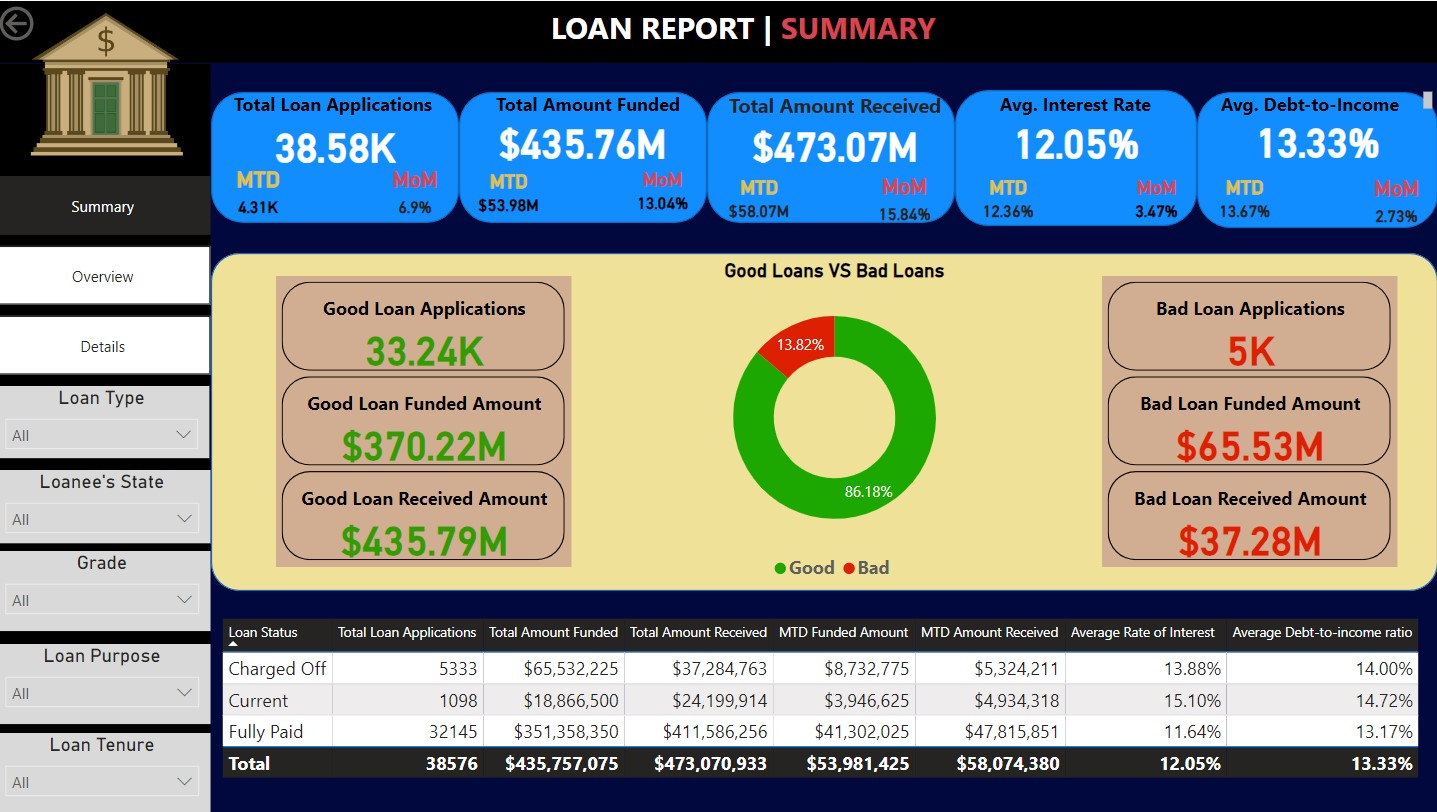

The dashboard page shown, as its layout file describes it:
{"tool":"powerbi","page":{"name":"Summary","canvas":[1280,720],"ordinal":0},"visuals":[{"type":"shape","box":[0,0,1280.4,55],"z":0},{"type":"shape","box":[0,55.6,192,665],"z":1000},{"type":"shape","box":[192.4,80.7,219.9,116.2],"z":2000},{"type":"textbox","box":[488.6,0,511.6,65.1],"z":3000},{"type":"card","fields":{"Values":["financial_loan.TotalLoanApplications"]},"box":[198.6,104.6,207.5,45.2],"z":4000},{"type":"textbox","box":[207.5,75.4,222.6,34.6],"z":5000},{"type":"card","title":"MTD","fields":{"Values":["financial_loan.MTD Loan Applications"]},"box":[207.5,147.2,53.2,47],"z":6000},{"type":"card","title":"MoM","fields":{"Values":["financial_loan.MoM Loan Applications"]},"box":[334.3,147.2,78,46.1],"z":7000},{"type":"shape","box":[412.3,80.7,219.9,116.2],"z":8000},{"type":"card","fields":{"Values":["Sum(financial_loan.loan_amount)"]},"box":[399.9,75.4,243.8,96.7],"z":9000},{"type":"textbox","box":[417.6,75.4,222.6,34.6],"z":10000},{"type":"card","title":"MTD","fields":{"Values":["financial_loan.MTD Funded Amouunt"]},"box":[423.8,149.9,64.7,46.1],"z":11000},{"type":"card","title":"MoM","fields":{"Values":["financial_loan.MoM funded amount"]},"box":[564.8,148.1,55.9,46.1],"z":12000},{"type":"shape","box":[632.2,80.7,219.9,116.2],"z":13000},{"type":"card","title":"Total Amount Received","fields":{"Values":["financial_loan.Total Amount Received"]},"box":[646.4,80.7,198.6,68.3],"z":14000},{"type":"card","title":"MTD","fields":{"Values":["financial_loan.MTD Amount Received"]},"box":[646.4,155.2,63.8,46.1],"z":15000},{"type":"shape","box":[1066.7,80.7,213.7,120.6],"z":16000},{"type":"shape","box":[852.1,78.9,214.6,120.6],"z":17000},{"type":"card","title":"MoM","fields":{"Values":["financial_loan.MoM Amount Received"]},"box":[776.7,153.4,61.2,46.1],"z":18000},{"type":"card","fields":{"Values":["Avg(financial_loan.int_rate)"]},"box":[837.9,76.3,243,95.8],"z":19000},{"type":"textbox","box":[847.7,75.4,222.6,34.6],"z":20000},{"type":"card","title":"MTD","fields":{"Values":["financial_loan.MTD Avg Interest"]},"box":[869,155.2,60.3,46.1],"z":21000},{"type":"card","title":"MoM","fields":{"Values":["financial_loan.MoM Avg rate of interest"]},"box":[1000.2,155.2,61.2,46.1],"z":22000},{"type":"card","fields":{"Values":["Avg(financial_loan.dti)"]},"box":[1077.3,75.4,192.4,94.9],"z":23000},{"type":"textbox","box":[1061.4,75.4,219,34.6],"z":24000},{"type":"card","title":"MTD","fields":{"Values":["financial_loan.MTD debt-income ratio"]},"box":[1080.9,155.2,55.9,46.1],"z":25000},{"type":"card","title":"MoM","fields":{"Values":["financial_loan.MoM debt-income ratio"]},"box":[1215.7,155.2,55.9,46.1],"z":26000},{"type":"shape","box":[192.4,223.4,1088,299.7],"z":27000},{"type":"donutChart","title":"Good Loans VS Bad Loans","fields":{"Y":["CountNonNull(financial_loan.GoodLoan)"],"Category":["financial_loan.GoodLoan"]},"box":[511.6,223.4,467.3,299.7],"z":28000},{"type":"actionButton","box":[0,0,100,40],"z":29000},{"type":"cardVisual","fields":{"Data":["financial_loan.Good Loan Applications","financial_loan.Good Loan Funded Amount","financial_loan.Good Loan Received Amount"]},"box":[250,243.8,261.6,258],"z":30000},{"type":"cardVisual","fields":{"Data":["financial_loan.Bad Loan Applications","financial_loan.Bad Loan Funded Amount","financial_loan.Bad Loan Received Amount"]},"box":[982.5,243.8,261.6,258],"z":31000},{"type":"tableEx","fields":{"Values":["financial_loan.loan_status","financial_loan.TotalLoanApplications","Sum(financial_loan.loan_amount)","financial_loan.Total Amount Received","financial_loan.MTD Funded Amouunt","financial_loan.MTD Amount Received","Avg(financial_loan.int_rate)","Avg(financial_loan.dti)"]},"box":[196.8,542.7,1072.9,165.8],"z":32000},{"type":"slicer","title":"Grade","fields":{"Values":["financial_loan.grade"]},"box":[0,487.7,191.5,70.9],"z":33000},{"type":"slicer","title":"Loanee''s State","fields":{"Values":["financial_loan.address_state"]},"box":[0,415.9,191.5,64.7],"z":34000},{"type":"slicer","title":"Loan Purpose","fields":{"Values":["financial_loan.purpose"]},"box":[0,570.1,191.5,70.9],"z":35000},{"type":"slicer","title":"Loan Tenure","fields":{"Values":["financial_loan.term"]},"box":[0,649.1,191.5,70.9],"z":36000},{"type":"image","box":[27.5,0,144.5,146.3],"z":37000},{"type":"pageNavigator","box":[0.9,155.2,191.5,177.3],"z":38000},{"type":"slicer","title":"Loan Type","fields":{"Values":["financial_loan.LoanType"]},"box":[0,341.4,190.6,63.8],"z":38001}]}

Visuals, with their boxes on the page's 1280x720 design canvas (x1, y1, x2, y2). These are canvas units, not pixel positions in the 1437x812 screenshot, which may show the page scaled, cropped or inside an application window:
shape: [0,0,1280,55]
shape: [0,56,192,721]
shape: [192,81,412,197]
textbox: [489,0,1000,65]
card - financial_loan.TotalLoanApplications: [199,105,406,150]
textbox: [208,75,430,110]
"MTD" card: [208,147,261,194]
"MoM" card: [334,147,412,193]
shape: [412,81,632,197]
card - Sum(financial_loan.loan_amount): [400,75,644,172]
textbox: [418,75,640,110]
"MTD" card: [424,150,488,196]
"MoM" card: [565,148,621,194]
shape: [632,81,852,197]
"Total Amount Received" card: [646,81,845,149]
"MTD" card: [646,155,710,201]
shape: [1067,81,1280,201]
shape: [852,79,1067,200]
"MoM" card: [777,153,838,200]
card - Avg(financial_loan.int_rate): [838,76,1081,172]
textbox: [848,75,1070,110]
"MTD" card: [869,155,929,201]
"MoM" card: [1000,155,1061,201]
card - Avg(financial_loan.dti): [1077,75,1270,170]
textbox: [1061,75,1280,110]
"MTD" card: [1081,155,1137,201]
"MoM" card: [1216,155,1272,201]
shape: [192,223,1280,523]
"Good Loans VS Bad Loans" donutChart: [512,223,979,523]
actionButton: [0,0,100,40]
cardVisual - financial_loan.Good Loan Applications x financial_loan.Good Loan Funded Amount: [250,244,512,502]
cardVisual - financial_loan.Bad Loan Applications x financial_loan.Bad Loan Funded Amount: [982,244,1244,502]
tableEx - financial_loan.loan_status x financial_loan.TotalLoanApplications: [197,543,1270,708]
"Grade" slicer: [0,488,192,559]
"Loanee''s State" slicer: [0,416,192,481]
"Loan Purpose" slicer: [0,570,192,641]
"Loan Tenure" slicer: [0,649,192,720]
image: [28,0,172,146]
pageNavigator: [1,155,192,332]
"Loan Type" slicer: [0,341,191,405]
